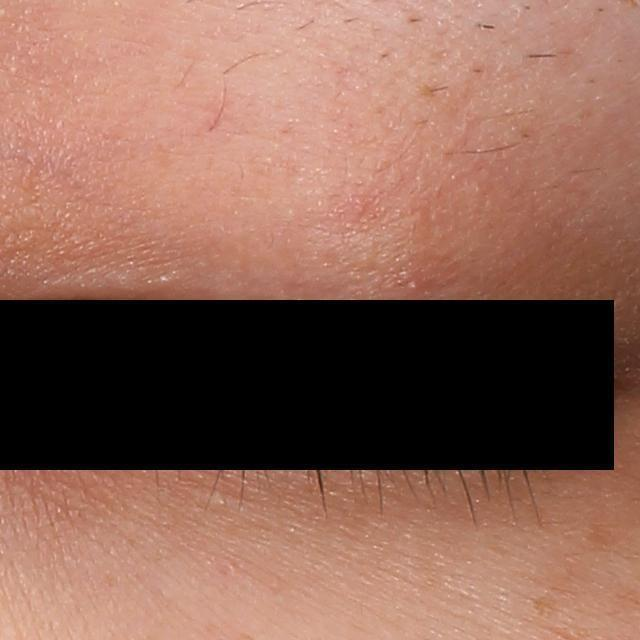melasma: (530, 596, 560, 619)
